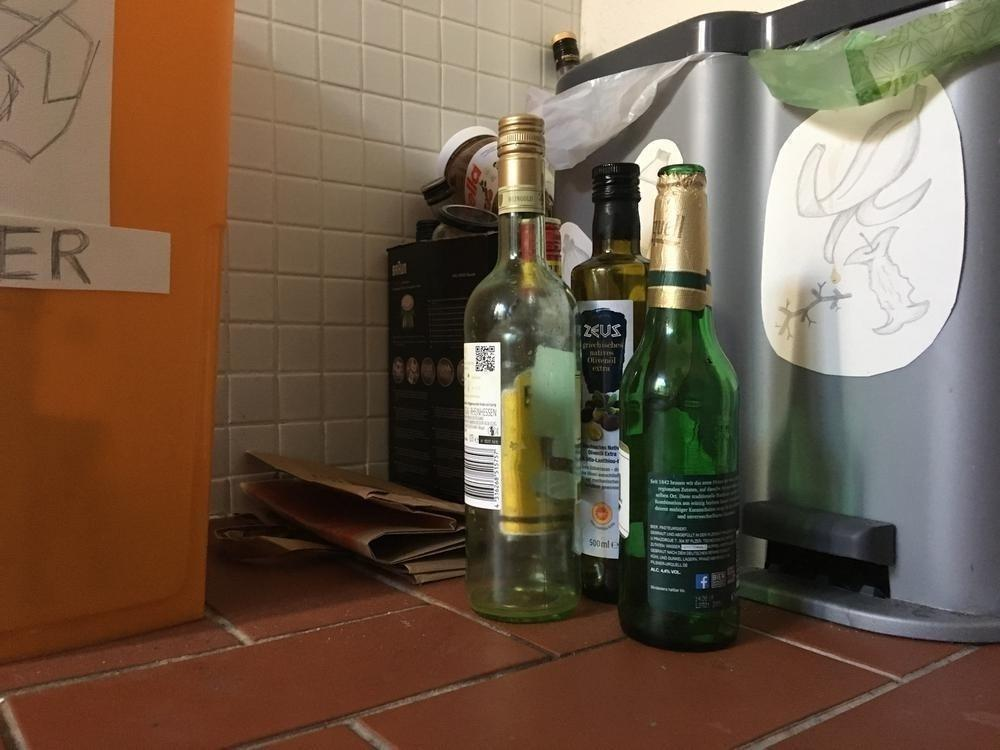bottle-glass: (459, 111, 589, 627), (616, 161, 742, 655), (564, 159, 668, 610)
